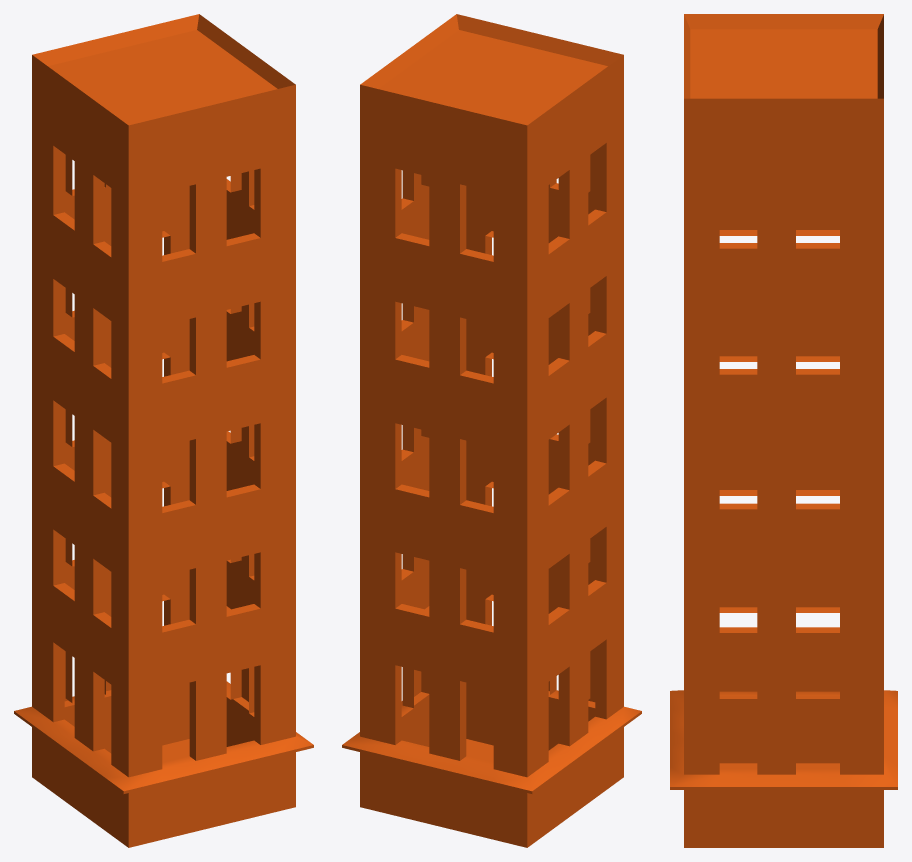
File: cube.253_lev1_lev3.glb
The picture shows the model from 3 angles, left to right: view 1: azimuth 30°, elevation 25°; view 2: azimuth 150°, elevation 25°; view 3: azimuth 270°, elevation 25°; orthographic projection. The views are drawn at different scales.
Visible parts, largest first — view 1: cube.253_lev1_lev3; view 2: cube.253_lev1_lev3; view 3: cube.253_lev1_lev3.
Part boxes in pixels (x1=…): cube.253_lev1_lev3: x1=14, y1=14, x2=313, y2=847; cube.253_lev1_lev3: x1=342, y1=14, x2=641, y2=847; cube.253_lev1_lev3: x1=670, y1=14, x2=897, y2=847.
Size of the model in its own units: 10.33 by 37.5 by 10.33.
